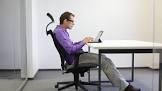bad-pose: (0, 0, 162, 91)
